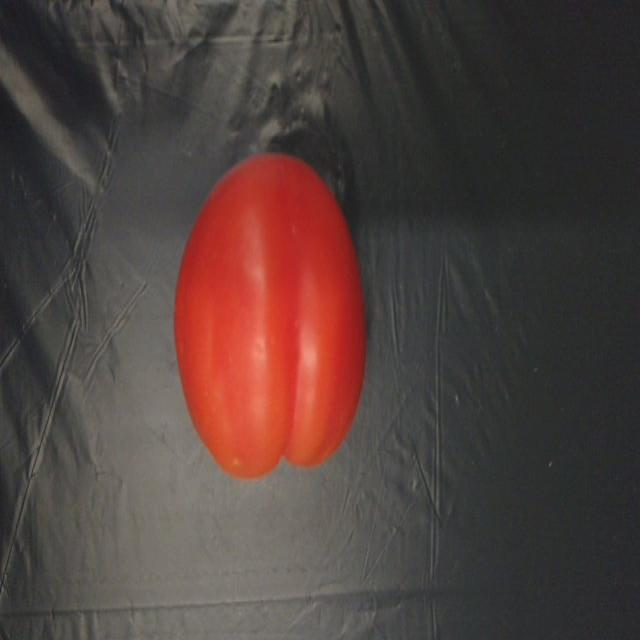kirmizi: (173, 154, 370, 476)
